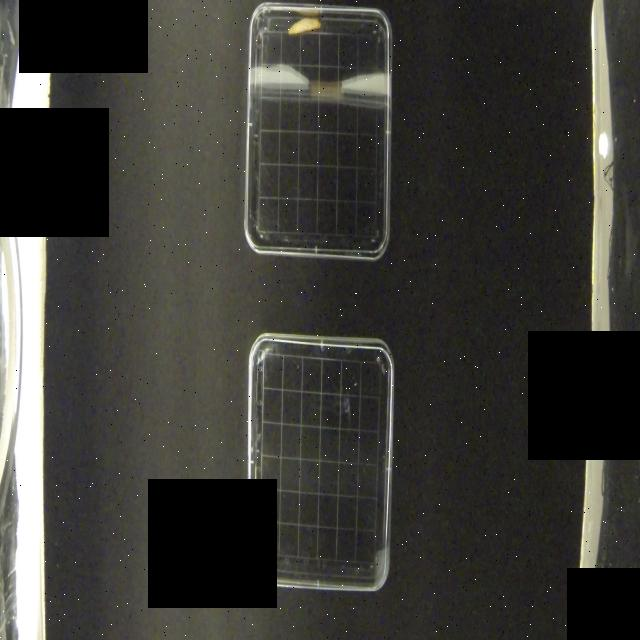larva: (256, 533, 274, 578), (288, 16, 321, 35)
